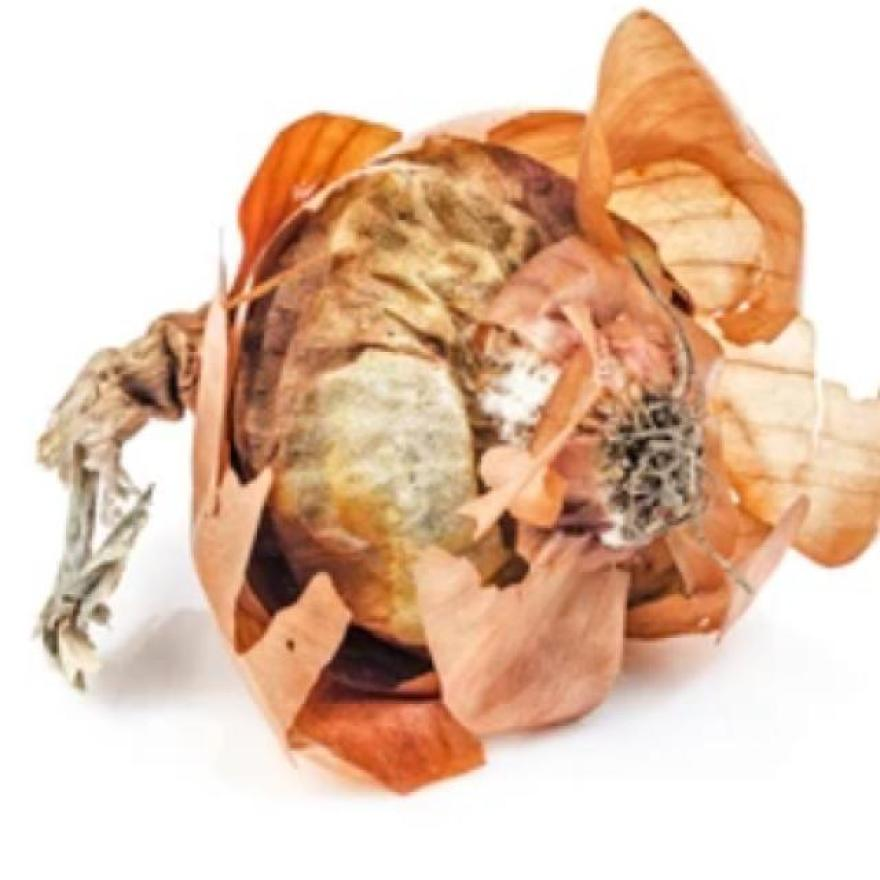Rotten: (257, 195, 524, 465)
